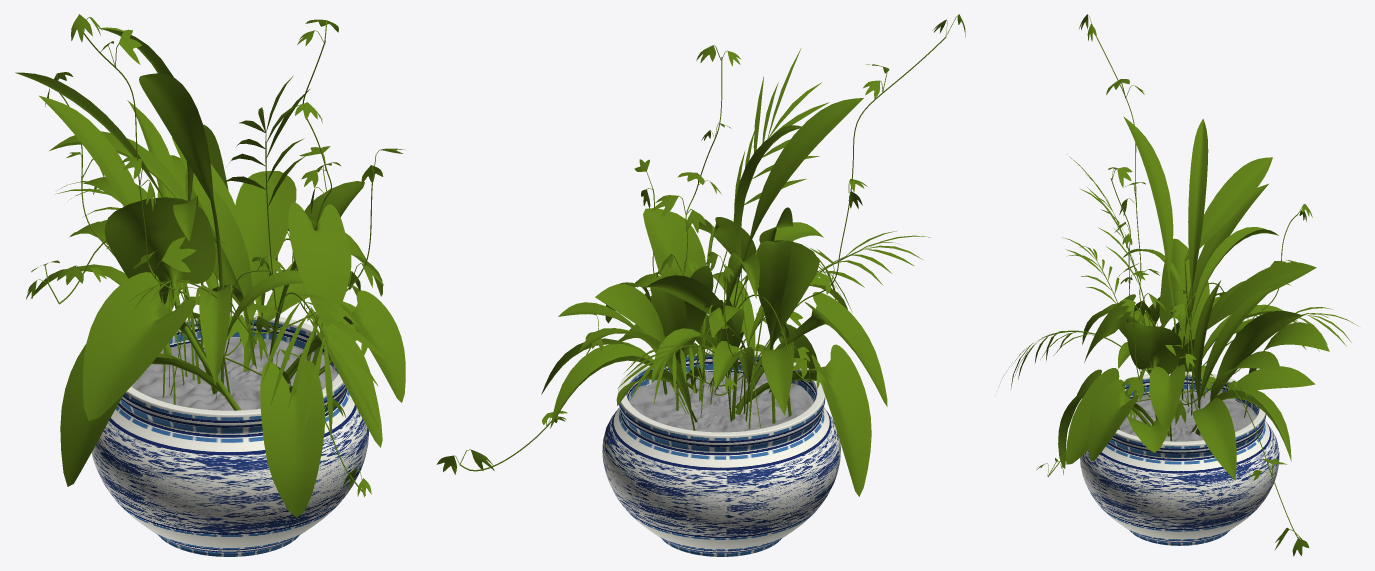
Rendered from juancao.obj.
The picture shows the model from 3 angles, left to right: view 1: azimuth 30°, elevation 25°; view 2: azimuth 150°, elevation 25°; view 3: azimuth 270°, elevation 25°; orthographic projection. The views are drawn at different scales.
Parts seen in each view (by area): view 1: objArch31_058_obj_07, objArch31_058_obj_00, objArch31_058_obj_01, objArch31_058_obj_02, objArch31_058_obj_05, objArch31_058_obj_03, objArch31_058_obj_06, objArch31_058_obj_04; view 2: objArch31_058_obj_00, objArch31_058_obj_01, objArch31_058_obj_07, objArch31_058_obj_02, objArch31_058_obj_06, objArch31_058_obj_05, objArch31_058_obj_03, objArch31_058_obj_04; view 3: objArch31_058_obj_00, objArch31_058_obj_01, objArch31_058_obj_07, objArch31_058_obj_02, objArch31_058_obj_05, objArch31_058_obj_03, objArch31_058_obj_06, objArch31_058_obj_04.
Part boxes in pixels (x1,y1,x2,y2): objArch31_058_obj_07: [60, 181, 405, 517]; objArch31_058_obj_00: [91, 312, 368, 556]; objArch31_058_obj_01: [15, 27, 303, 404]; objArch31_058_obj_02: [157, 124, 359, 371]; objArch31_058_obj_05: [26, 14, 405, 497]; objArch31_058_obj_03: [55, 75, 390, 439]; objArch31_058_obj_06: [131, 337, 337, 410]; objArch31_058_obj_04: [47, 32, 374, 495]; objArch31_058_obj_00: [602, 349, 840, 556]; objArch31_058_obj_01: [645, 98, 863, 428]; objArch31_058_obj_07: [605, 208, 887, 496]; objArch31_058_obj_02: [541, 265, 713, 430]; objArch31_058_obj_06: [629, 371, 813, 432]; objArch31_058_obj_05: [436, 14, 965, 474]; objArch31_058_obj_03: [617, 48, 930, 404]; objArch31_058_obj_04: [459, 36, 945, 471]; objArch31_058_obj_00: [1080, 371, 1279, 545]; objArch31_058_obj_01: [1082, 116, 1316, 415]; objArch31_058_obj_07: [1058, 238, 1209, 468]; objArch31_058_obj_02: [1190, 280, 1329, 480]; objArch31_058_obj_05: [1036, 14, 1312, 556]; objArch31_058_obj_03: [1002, 154, 1358, 389]; objArch31_058_obj_06: [1119, 389, 1256, 441]; objArch31_058_obj_04: [1048, 37, 1301, 539].
Bounding box in the file's own units: 342 × 428 × 326.
3 materials, 1 textured.
